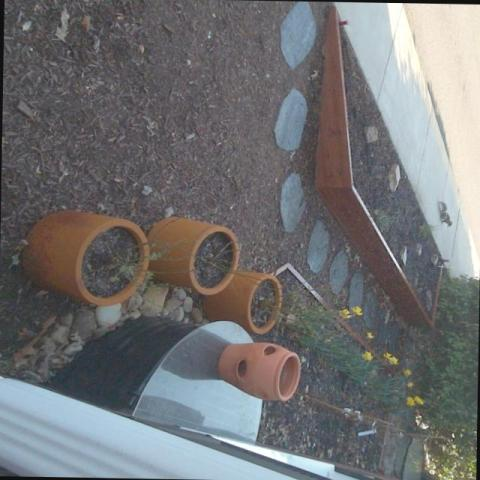small_animal: (438, 200, 454, 228), (334, 287, 348, 310)
